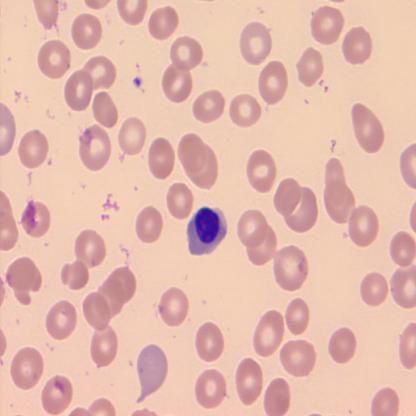NRC: (187, 204, 229, 256)
